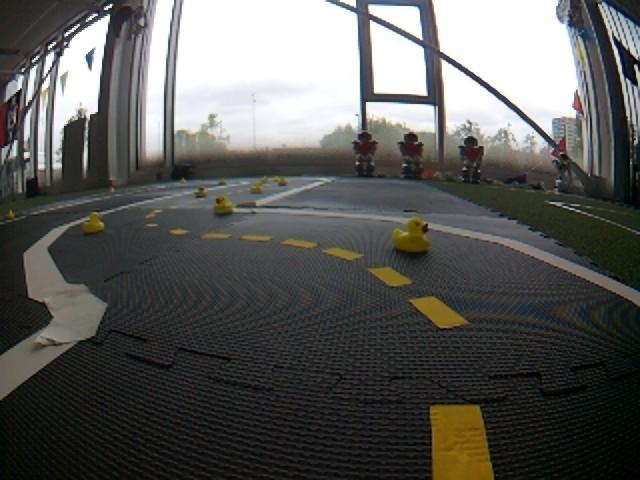Duckies: (391, 216, 431, 251), (82, 211, 104, 232), (214, 195, 234, 216), (249, 183, 265, 194), (195, 186, 206, 198), (7, 209, 16, 219), (277, 178, 288, 185), (218, 178, 226, 186), (261, 175, 269, 183), (273, 175, 281, 182), (180, 177, 187, 184), (109, 187, 115, 192)
